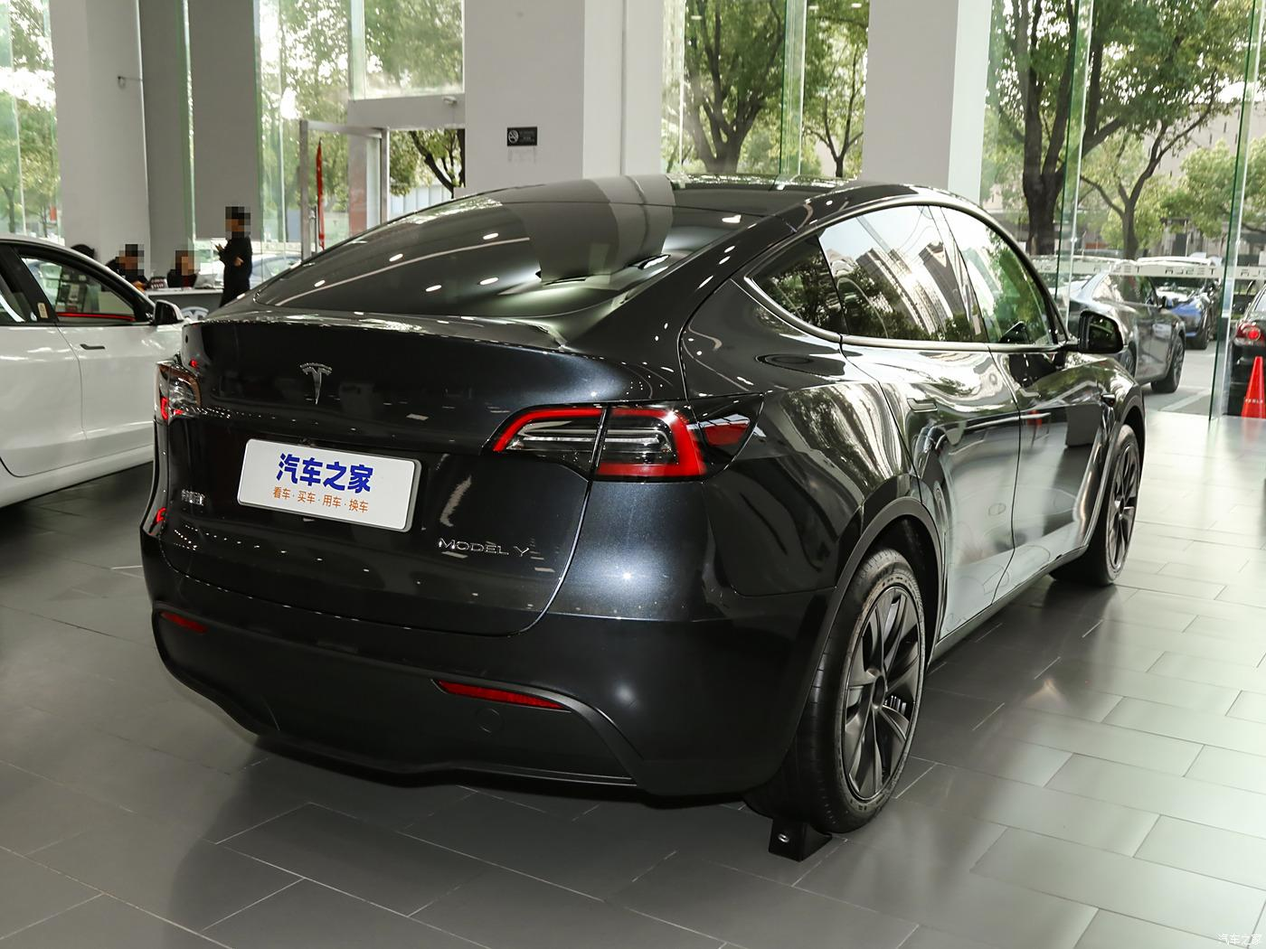Tesla: (299, 362, 333, 405)
